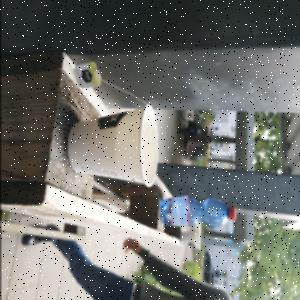Cup: (67, 104, 159, 189), (179, 228, 203, 252)
Plastic-bottle: (159, 196, 237, 231)
